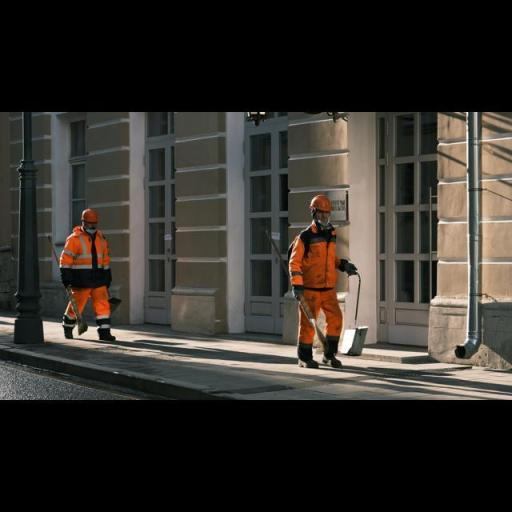Person: (278, 178, 372, 368), (38, 186, 128, 351)
boots: (313, 324, 346, 368), (91, 309, 127, 349), (289, 326, 320, 372), (58, 302, 78, 339)
helmet: (300, 190, 342, 216), (71, 202, 101, 228)
vest: (287, 224, 351, 302), (62, 226, 112, 293)
